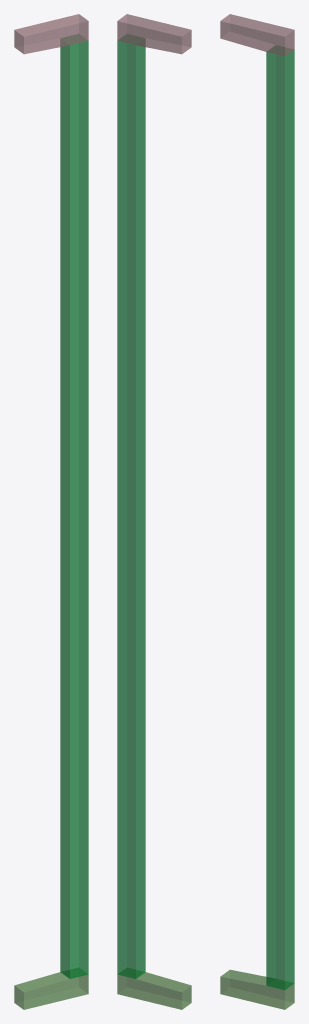
Rendered from Handle100.obj.
The picture shows the model from 3 angles, left to right: view 1: azimuth 30°, elevation 25°; view 2: azimuth 150°, elevation 25°; view 3: azimuth 330°, elevation 25°; orthographic projection.
Parts seen in each view (by area): view 1: Shape_IndexedFaceSet.001_Shape_IndexedFaceSet.131; view 2: Shape_IndexedFaceSet.001_Shape_IndexedFaceSet.131; view 3: Shape_IndexedFaceSet.001_Shape_IndexedFaceSet.131.
Boxes of the visible parts, left/top/right/bottom form: Shape_IndexedFaceSet.001_Shape_IndexedFaceSet.131: left=14, top=14, right=88, bottom=1009; Shape_IndexedFaceSet.001_Shape_IndexedFaceSet.131: left=117, top=14, right=191, bottom=1009; Shape_IndexedFaceSet.001_Shape_IndexedFaceSet.131: left=220, top=14, right=294, bottom=1009.
Bounding box in the file's own units: 0.0635 × 0.9121 × 0.0164.
